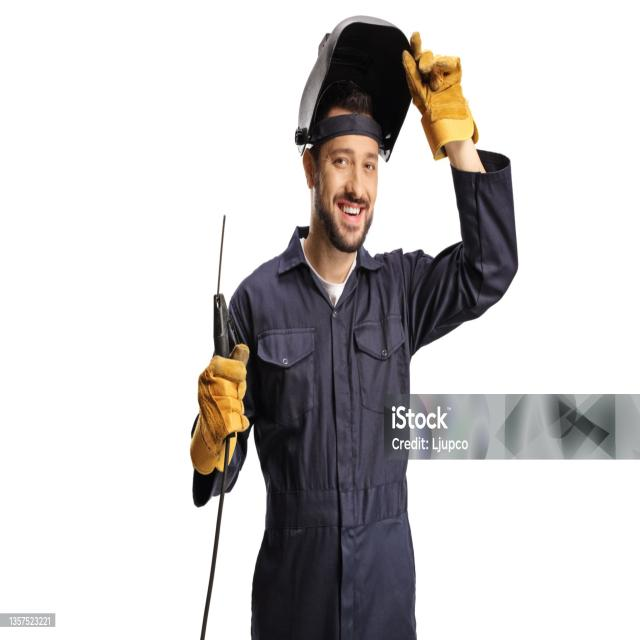helmet_lifted: (281, 2, 464, 266)
